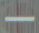No entry: (3, 2, 36, 32)
